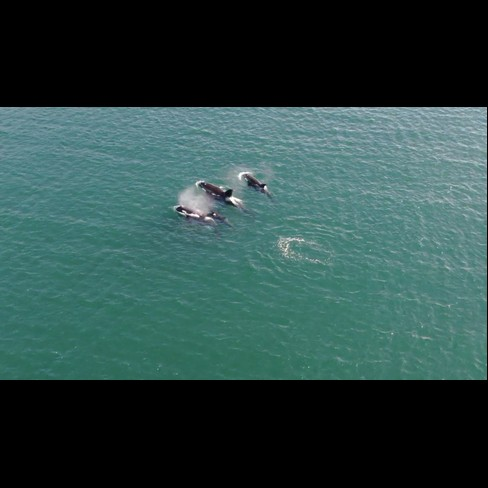orca: (189, 177, 253, 218), (168, 204, 238, 237), (232, 165, 280, 205)
